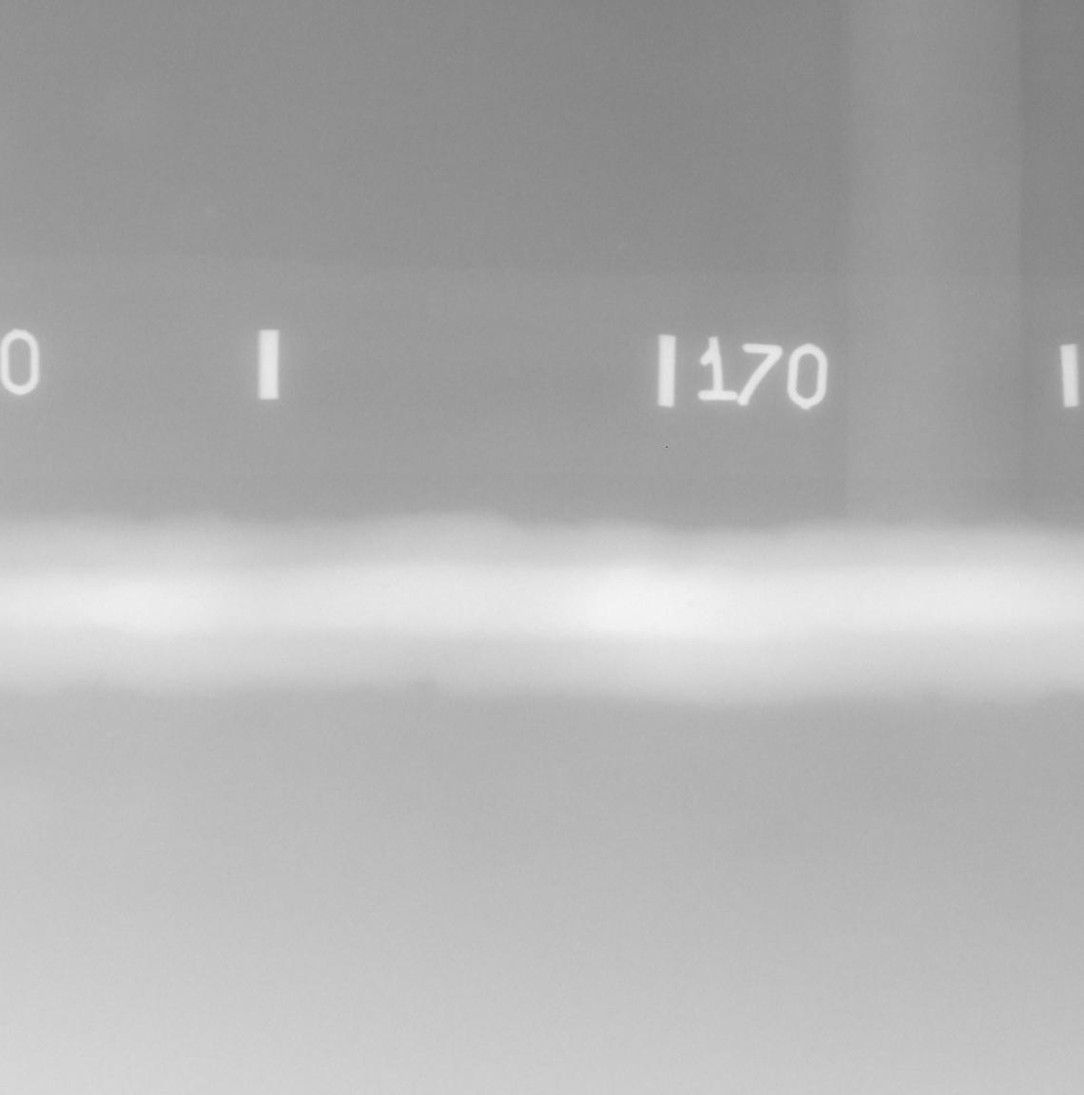Pore/Porosity: (686, 601, 694, 607), (381, 584, 388, 590)
